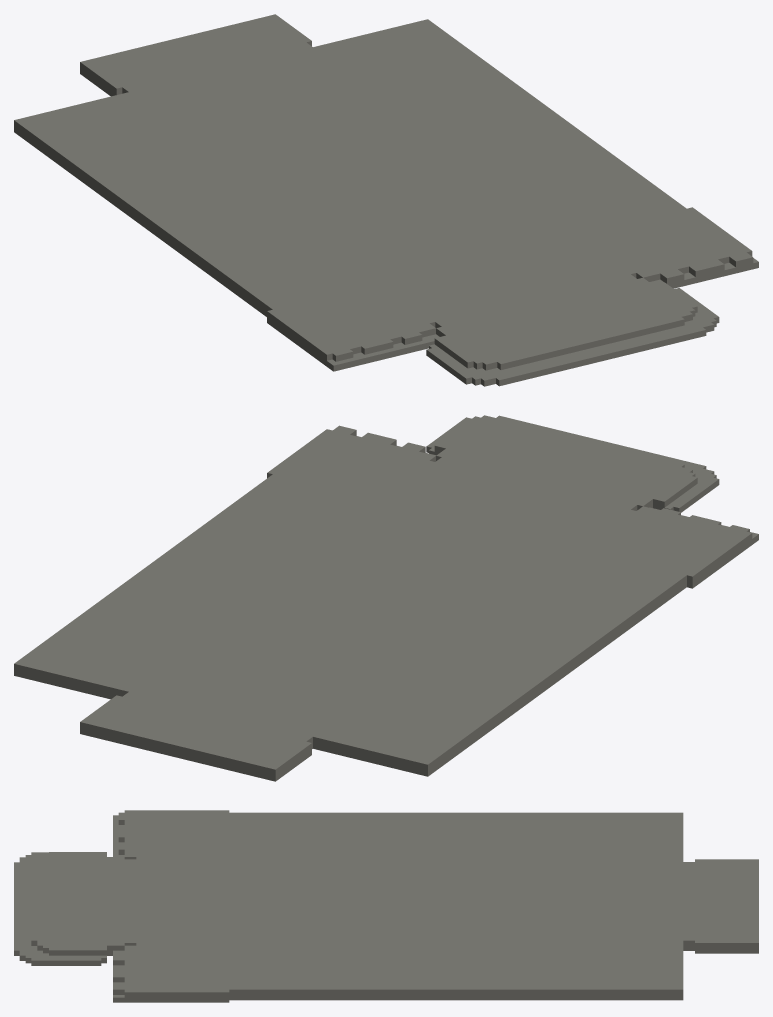
The model's file is church-17-ch_floorsolid.obj.
The picture shows the model from 3 angles, top to bottom: view 1: azimuth 30°, elevation 25°; view 2: azimuth 150°, elevation 25°; view 3: azimuth 270°, elevation 25°; orthographic projection. The views are drawn at different scales.
Parts seen in each view (by area): view 1: ch_floorsolid; view 2: ch_floorsolid; view 3: ch_floorsolid.
Part boxes in pixels (x1,y1,x2,y2): ch_floorsolid: (14, 14, 758, 386); ch_floorsolid: (14, 415, 758, 781); ch_floorsolid: (14, 810, 758, 1002).
Bounding box in the file's own units: 7.4 × 0.2 × 12.8.
1 material, 1 textured.
